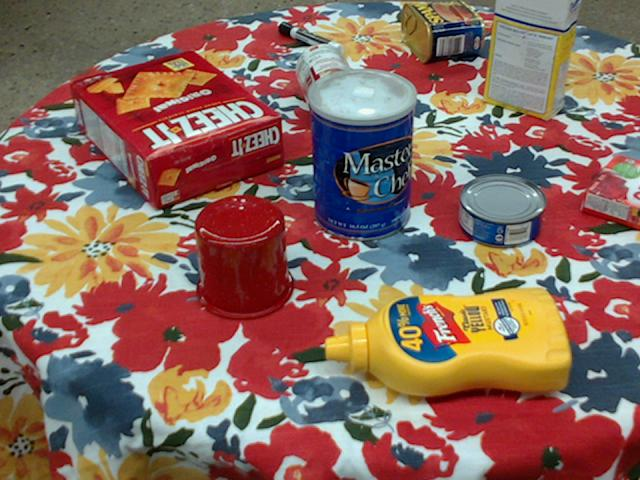cracker_box: (72, 50, 285, 207)
gelatin_box: (581, 155, 639, 231)
large_marker: (280, 21, 344, 56)
master_chef_can: (308, 67, 416, 241)
mug: (193, 193, 295, 320)
mustard_bottle: (326, 284, 574, 395)
potted_meat_can: (401, 0, 485, 62)
sugar_box: (483, 0, 582, 121)
tomato_soup_can: (295, 42, 366, 128)
tuna_fish_can: (460, 175, 548, 248)
